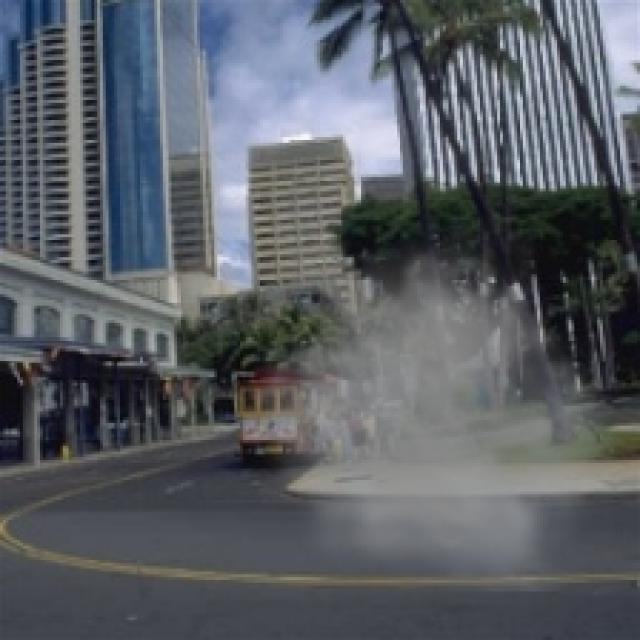smoke: (237, 206, 634, 591)
